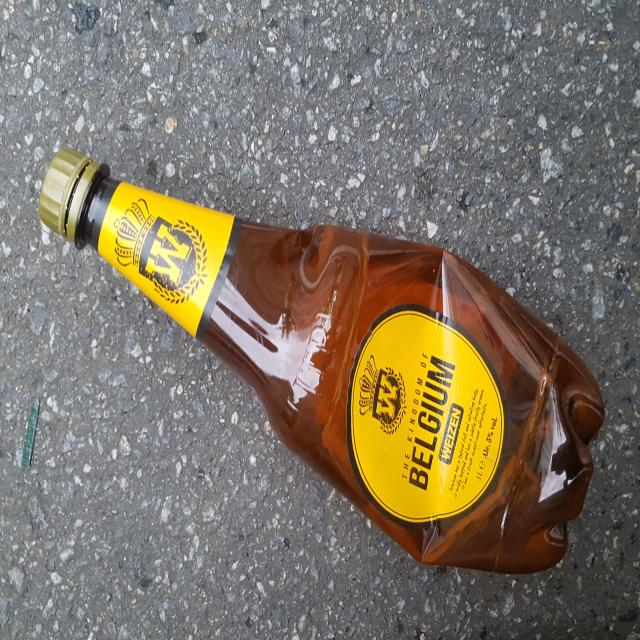bottle: (35, 142, 610, 596)
